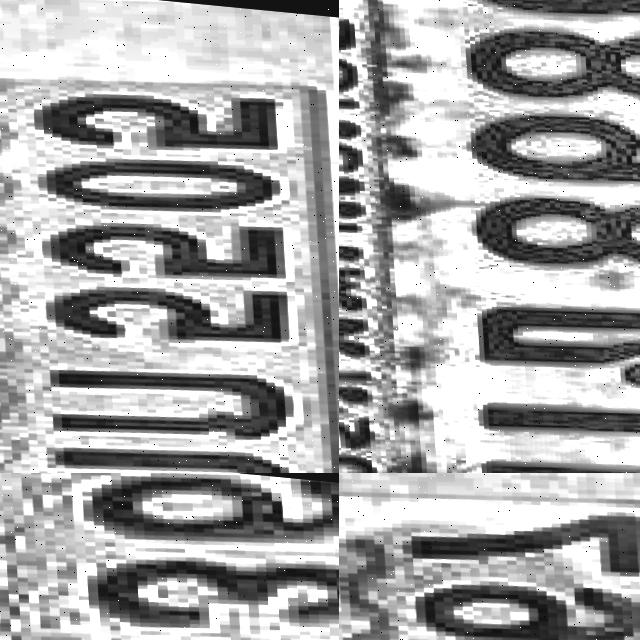license-plate: (0, 0, 339, 473), (339, 0, 640, 473), (0, 473, 339, 640), (339, 473, 640, 640)
